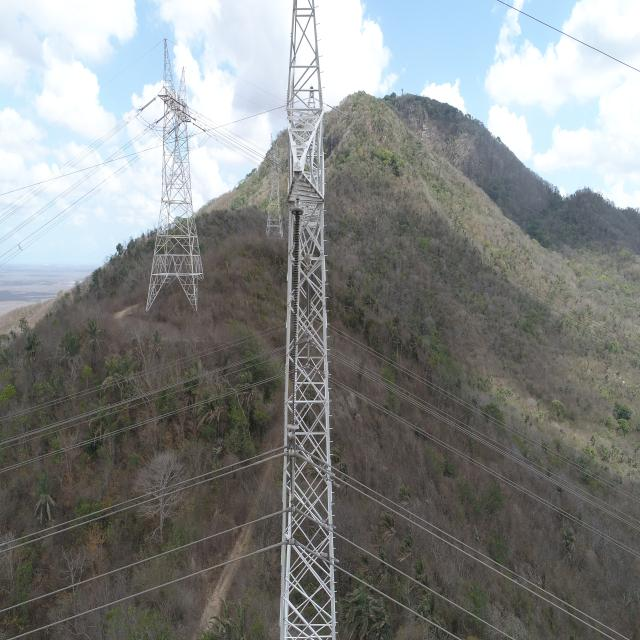杆塔: (276, 0, 338, 640), (153, 46, 199, 314), (264, 113, 281, 237)
正常电缆: (345, 471, 626, 640), (338, 479, 611, 640), (3, 509, 275, 618), (1, 453, 281, 558), (1, 446, 280, 547), (0, 376, 280, 473), (5, 541, 275, 640), (344, 533, 511, 640), (341, 565, 456, 640)
